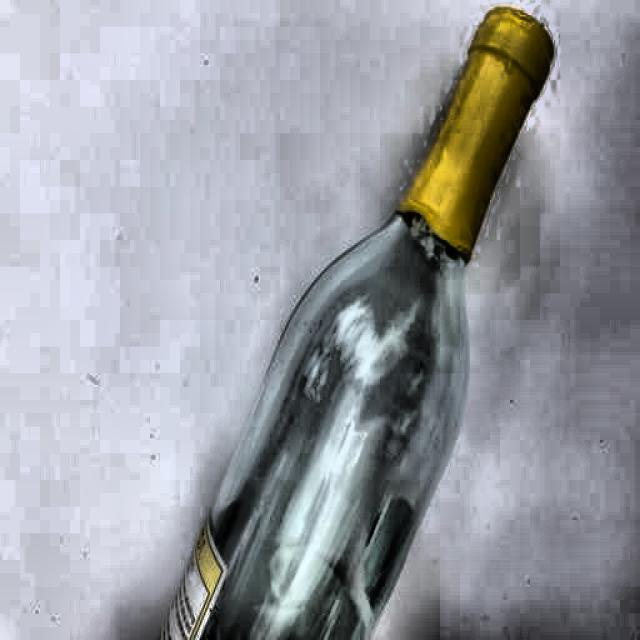glass: (150, 0, 556, 640)
